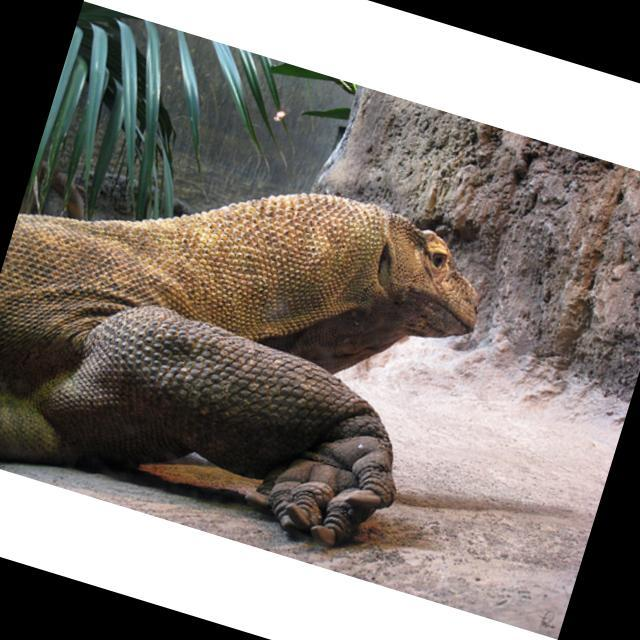KomodoDragon: (0, 106, 498, 585)
